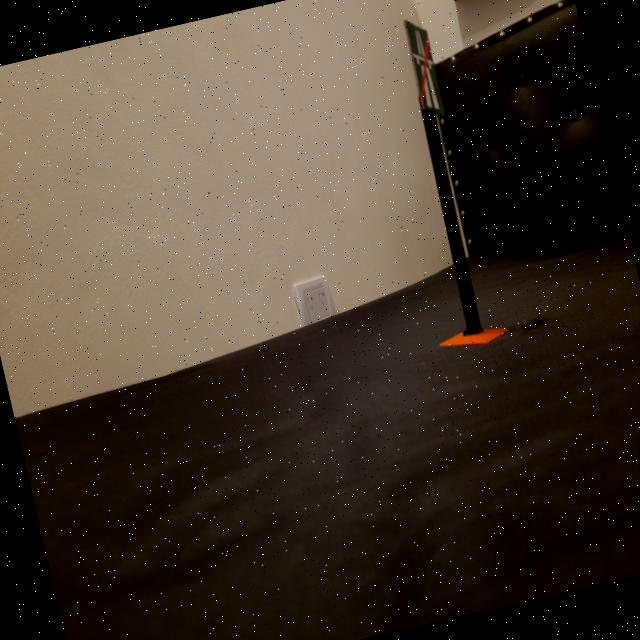highway_exit: (401, 12, 446, 120)
